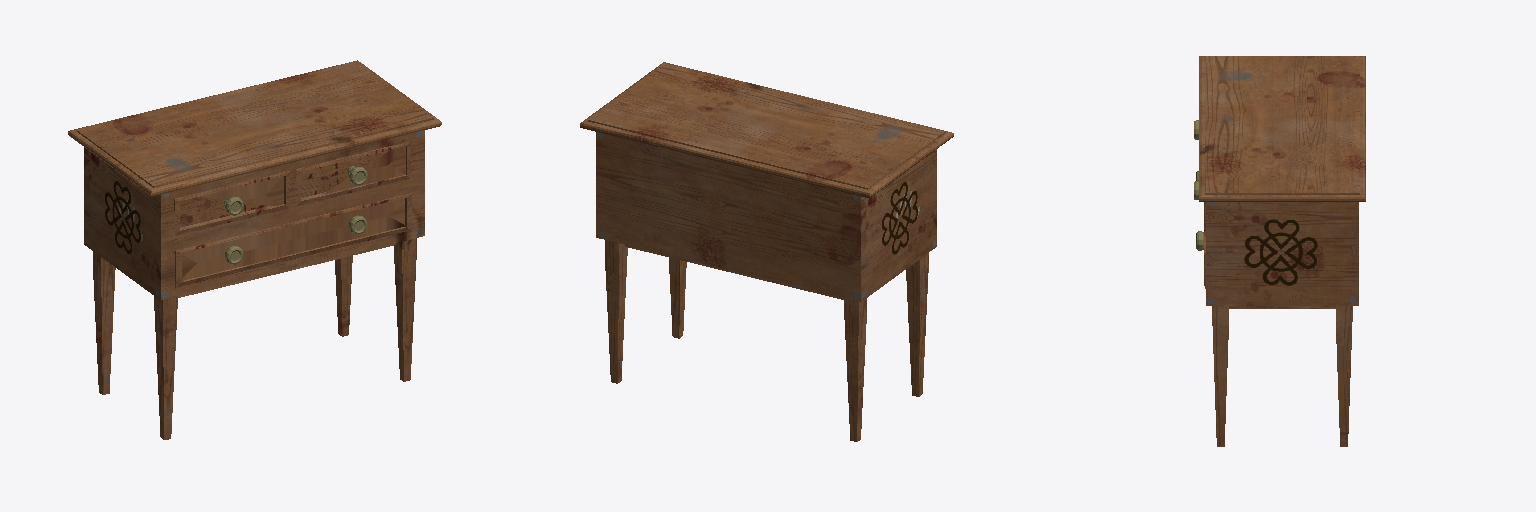
3 views of the same model, side by side, from view 1: azimuth 30°, elevation 25°; view 2: azimuth 150°, elevation 25°; view 3: azimuth 270°, elevation 25° (orthographic).
Visible parts, largest first — view 1: gavetaCorpo_Cube.001, gavetaGrande_Cube.002, GavetaPeqEsq_Cube.003, GavetaPeqDir_Cube.004; view 2: gavetaCorpo_Cube.001; view 3: gavetaCorpo_Cube.001.
Boxes of the visible parts, <box> form: gavetaCorpo_Cube.001: <box>68,60,441,439</box>; gavetaGrande_Cube.002: <box>175,193,411,287</box>; GavetaPeqEsq_Cube.003: <box>296,142,410,205</box>; GavetaPeqDir_Cube.004: <box>174,171,289,235</box>; gavetaCorpo_Cube.001: <box>580,62,953,441</box>; gavetaCorpo_Cube.001: <box>1199,56,1365,446</box>.
Bounding box in the file's own units: 1.1 × 0.951 × 0.5664.
Materials: 3 (3 with a texture image).